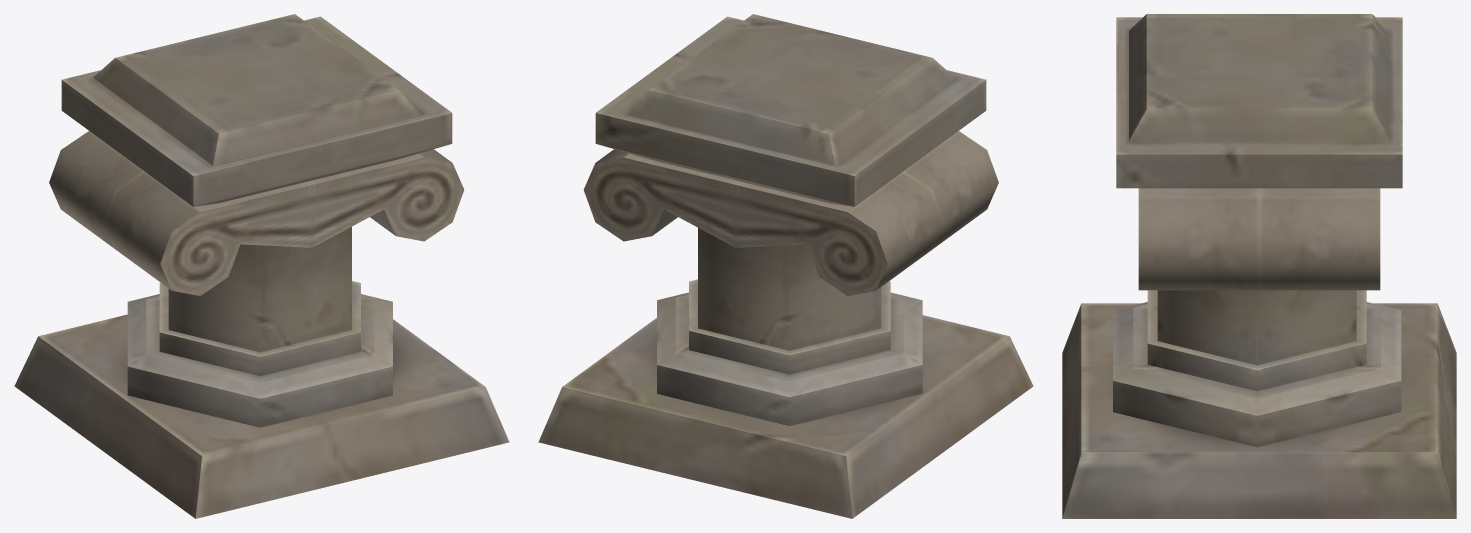
File: prop_list_18_2.FBX
The picture shows the model from 3 angles, left to right: view 1: azimuth 30°, elevation 25°; view 2: azimuth 150°, elevation 25°; view 3: azimuth 270°, elevation 25°; orthographic projection. The views are drawn at different scales.
Parts seen in each view (by area): view 1: prop_list_18_2; view 2: prop_list_18_2; view 3: prop_list_18_2.
Part boxes in pixels (box(x1,y1,x2,y2)): prop_list_18_2: box(14, 14, 509, 518); prop_list_18_2: box(538, 14, 1033, 518); prop_list_18_2: box(1062, 14, 1456, 518).
Size of the model in its own units: 27.56 by 28.62 by 27.52.
